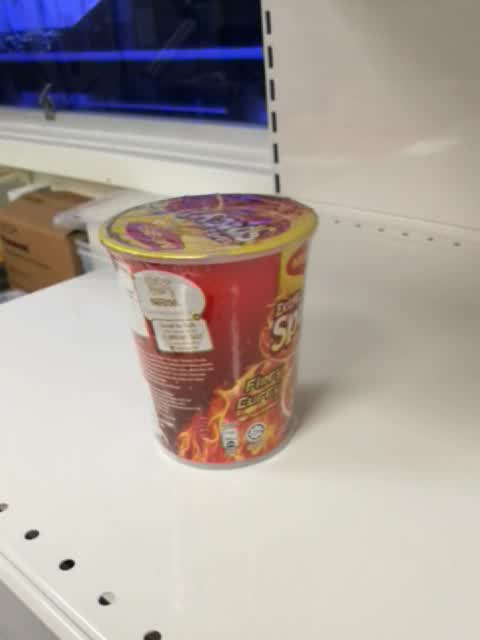maggi: (98, 192, 319, 470)
